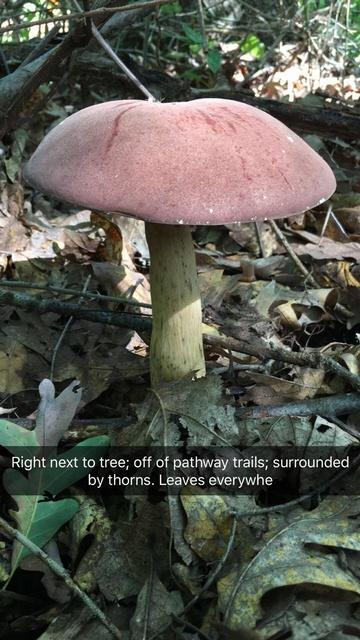poisonous_mushroom: (22, 95, 337, 387)
